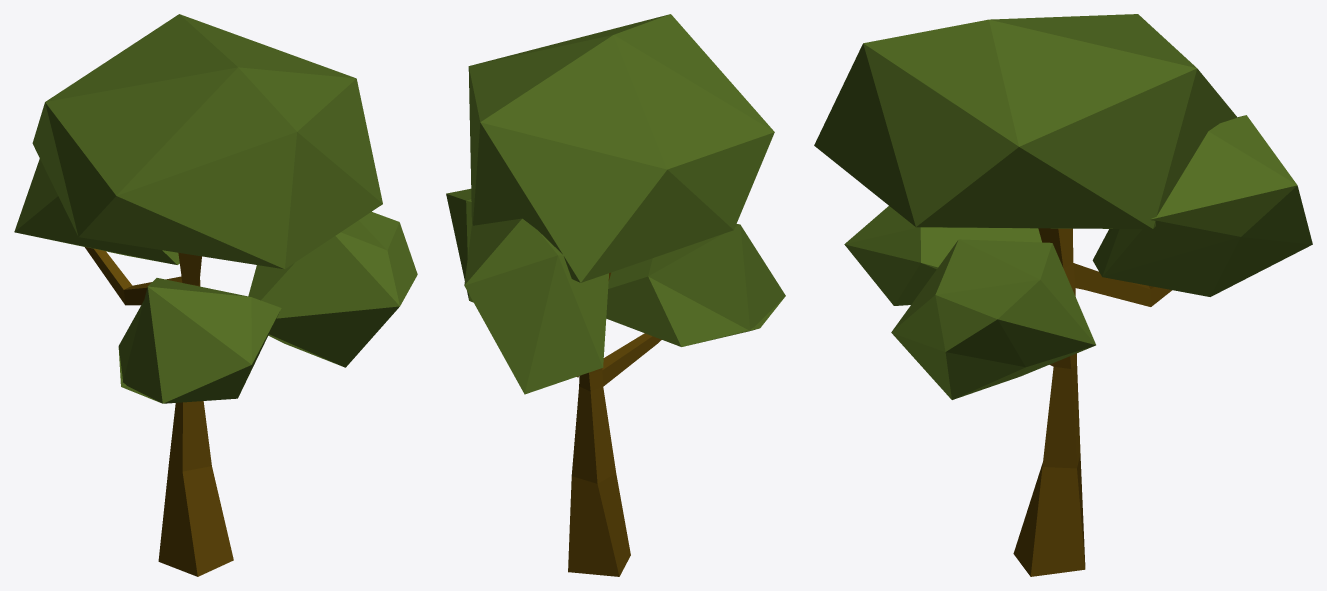
The model's file is oak-darkgreen.gltf.
The picture shows the model from 3 angles, left to right: view 1: azimuth 30°, elevation 25°; view 2: azimuth 150°, elevation 25°; view 3: azimuth 270°, elevation 25°; orthographic projection. The views are drawn at different scales.
Parts seen in each view (by area): view 1: Plane.002; view 2: Plane.002; view 3: Plane.002.
Boxes of the visible parts, bbox=[...] form: Plane.002: bbox=[14, 14, 417, 576]; Plane.002: bbox=[446, 14, 785, 576]; Plane.002: bbox=[814, 14, 1312, 576].
Size of the model in its own units: 0.7252 by 1.15 by 0.9461.
